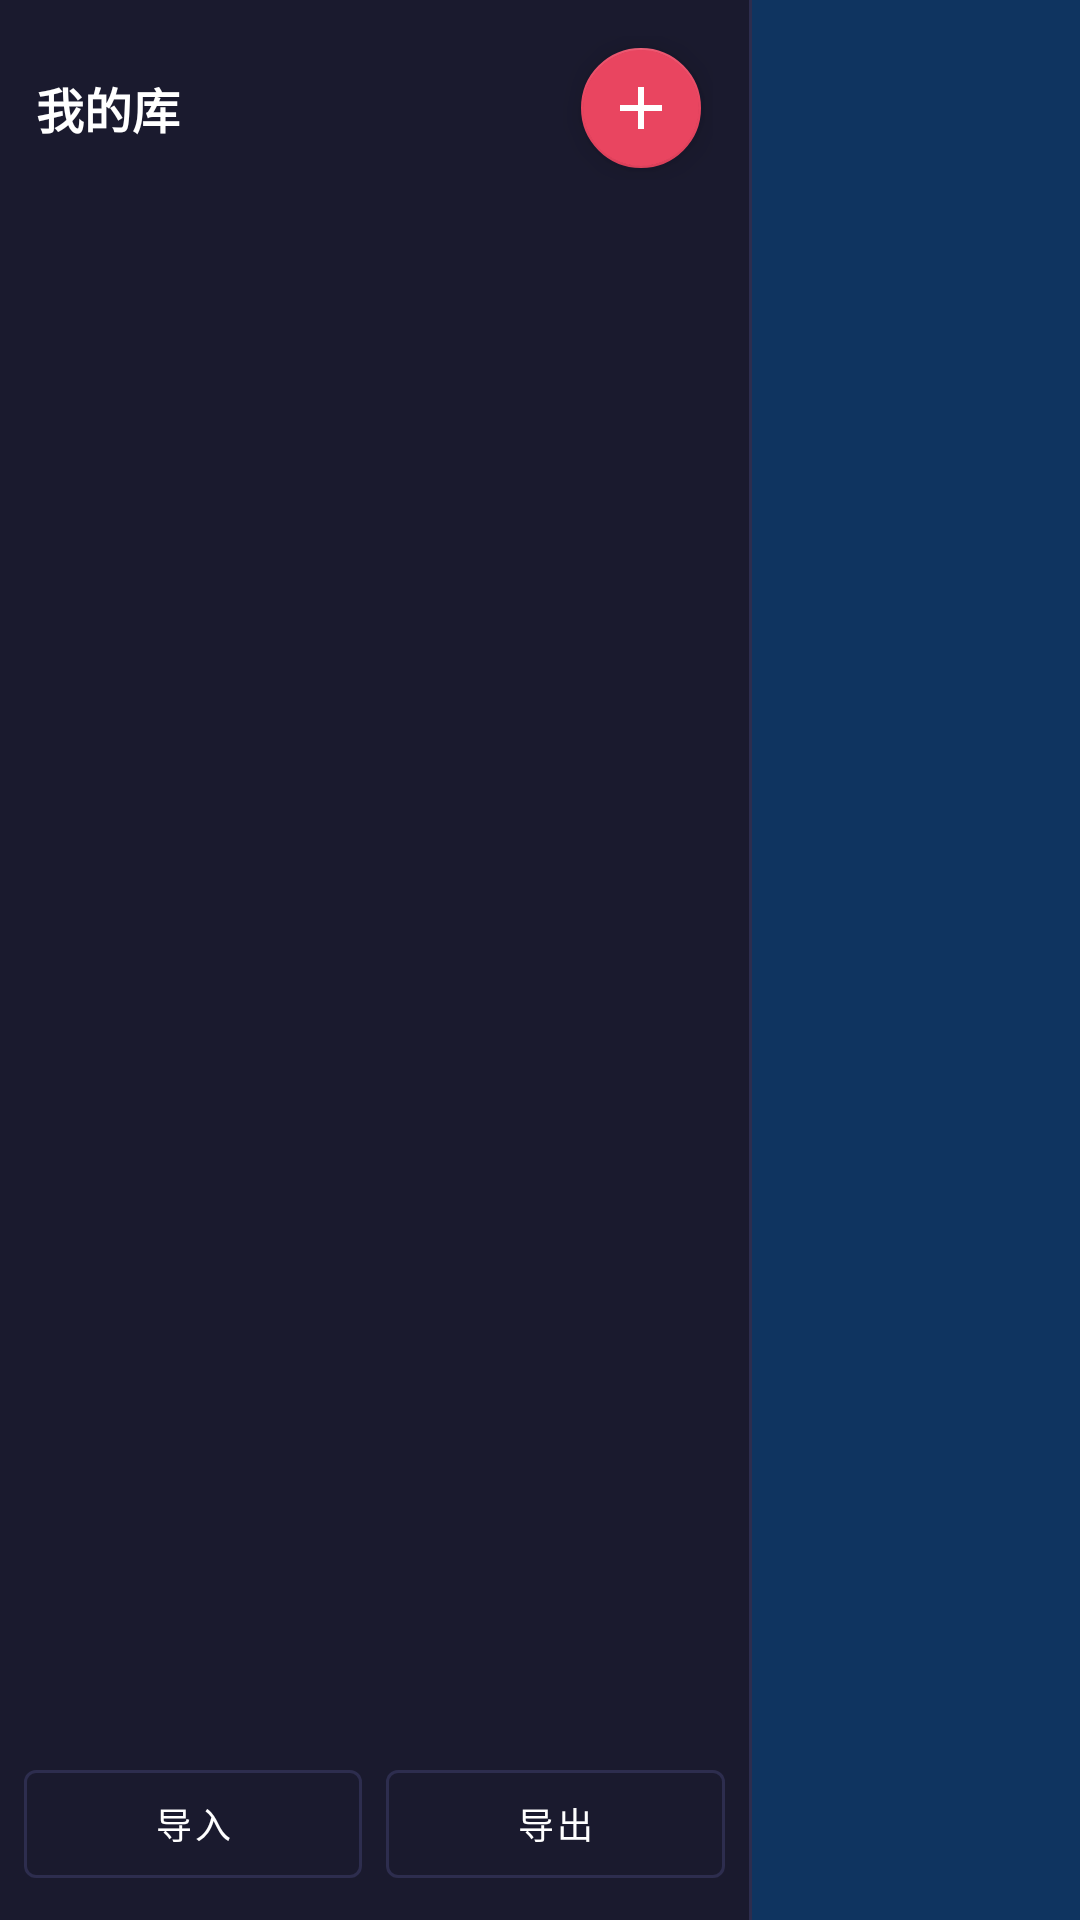

Where icons sit on this 1080 x 1920 app screen, as region(x1, y1, x2, y2):
add: region(581, 48, 701, 168)
